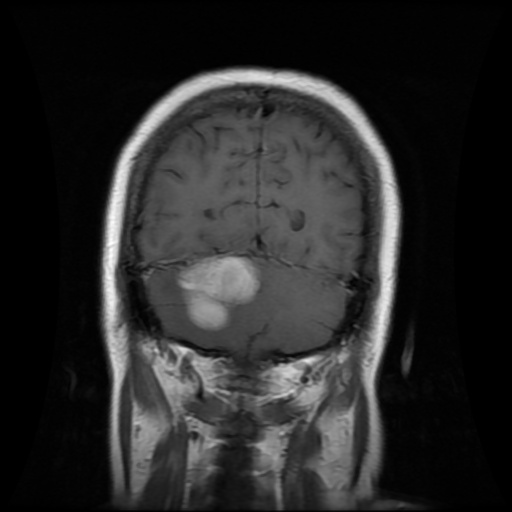meningioma: (179, 256, 260, 332)
